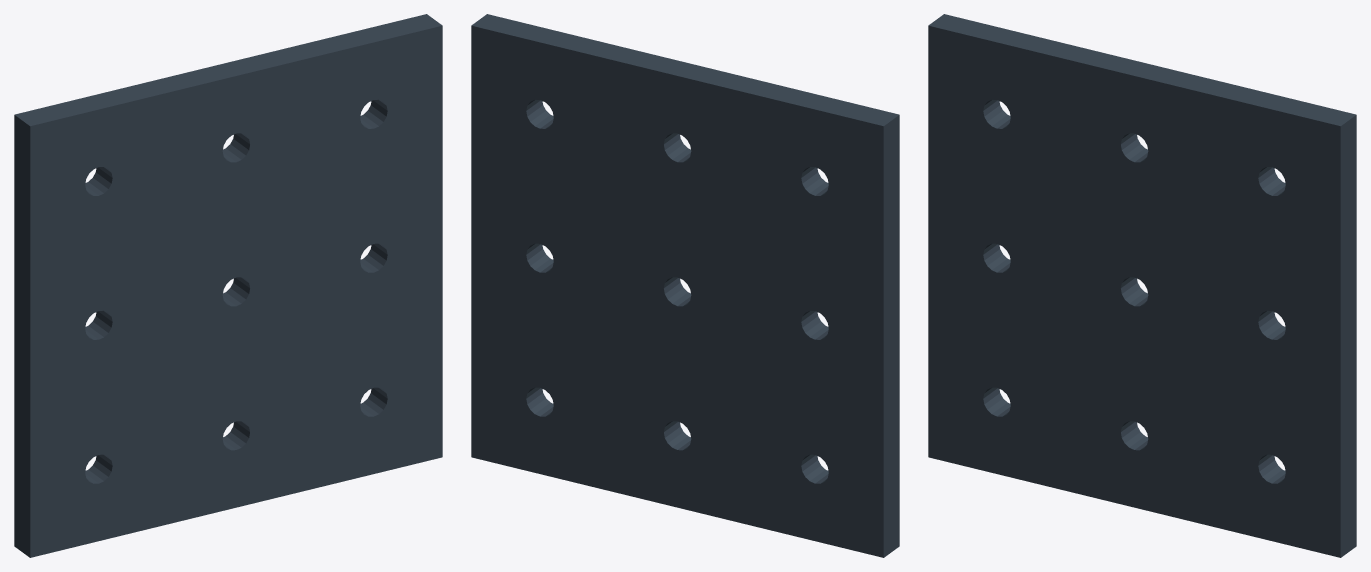
The model's file is kit_plate_60_60.obj.
The picture shows the model from 3 angles, left to right: view 1: azimuth 30°, elevation 25°; view 2: azimuth 150°, elevation 25°; view 3: azimuth 330°, elevation 25°; orthographic projection.
Parts seen in each view (by area): view 1: kit_plate_60_60; view 2: kit_plate_60_60; view 3: kit_plate_60_60.
Boxes of the visible parts, bbox=[...] form: kit_plate_60_60: bbox=[14, 14, 442, 557]; kit_plate_60_60: bbox=[471, 14, 899, 557]; kit_plate_60_60: bbox=[928, 14, 1356, 557].
Size of the model in its own units: 0.06 by 0.06 by 0.004.
